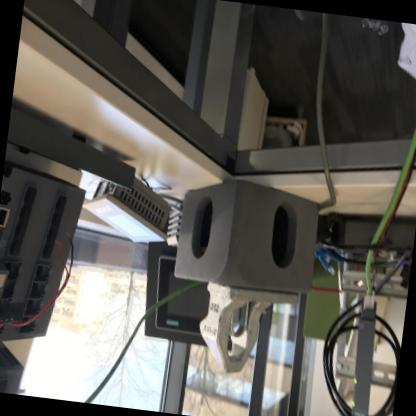CornerCasting: (172, 171, 326, 295)
Twistlock: (190, 278, 302, 383)
